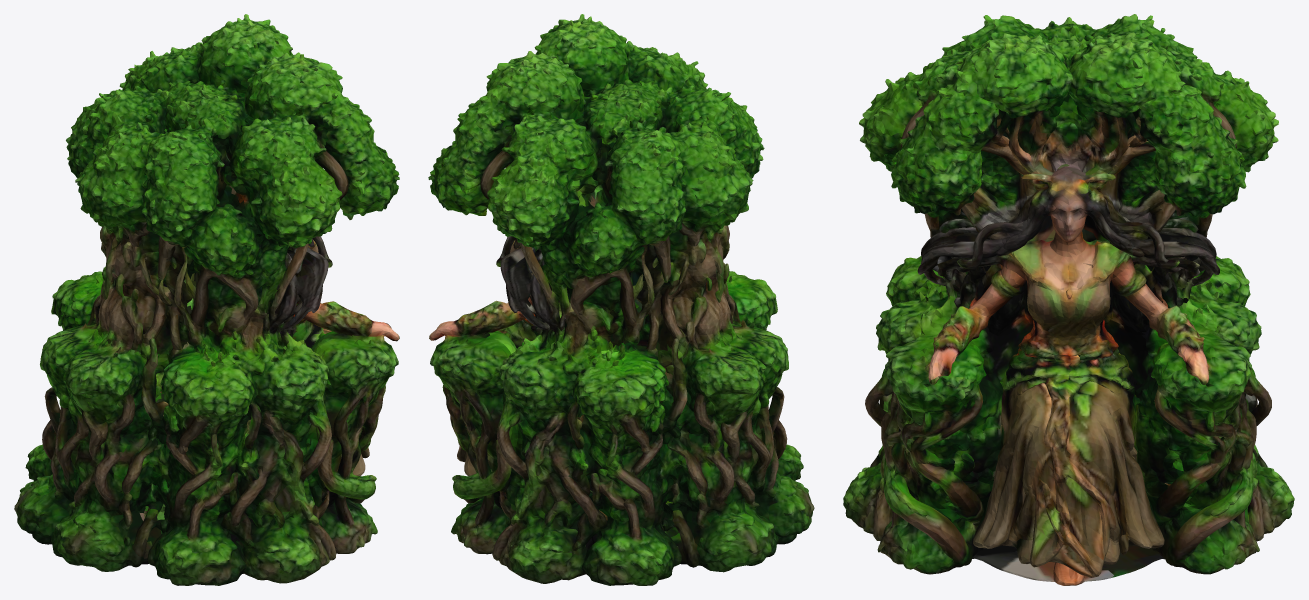
The model's file is modelo42.glb.
The picture shows the model from 3 angles, left to right: view 1: azimuth 30°, elevation 25°; view 2: azimuth 150°, elevation 25°; view 3: azimuth 270°, elevation 25°; orthographic projection. The views are drawn at different scales.
Parts seen in each view (by area): view 1: tripo_node_90f64f08-1164-457f-9444-7bf917d2e250; view 2: tripo_node_90f64f08-1164-457f-9444-7bf917d2e250; view 3: tripo_node_90f64f08-1164-457f-9444-7bf917d2e250.
Boxes of the visible parts, <box> form: tripo_node_90f64f08-1164-457f-9444-7bf917d2e250: <box>14,14,399,585</box>; tripo_node_90f64f08-1164-457f-9444-7bf917d2e250: <box>428,14,814,585</box>; tripo_node_90f64f08-1164-457f-9444-7bf917d2e250: <box>843,14,1294,585</box>.
Size of the model in its own units: 0.736 by 0.9997 by 0.7887.
Materials: 1 (1 with a texture image).
